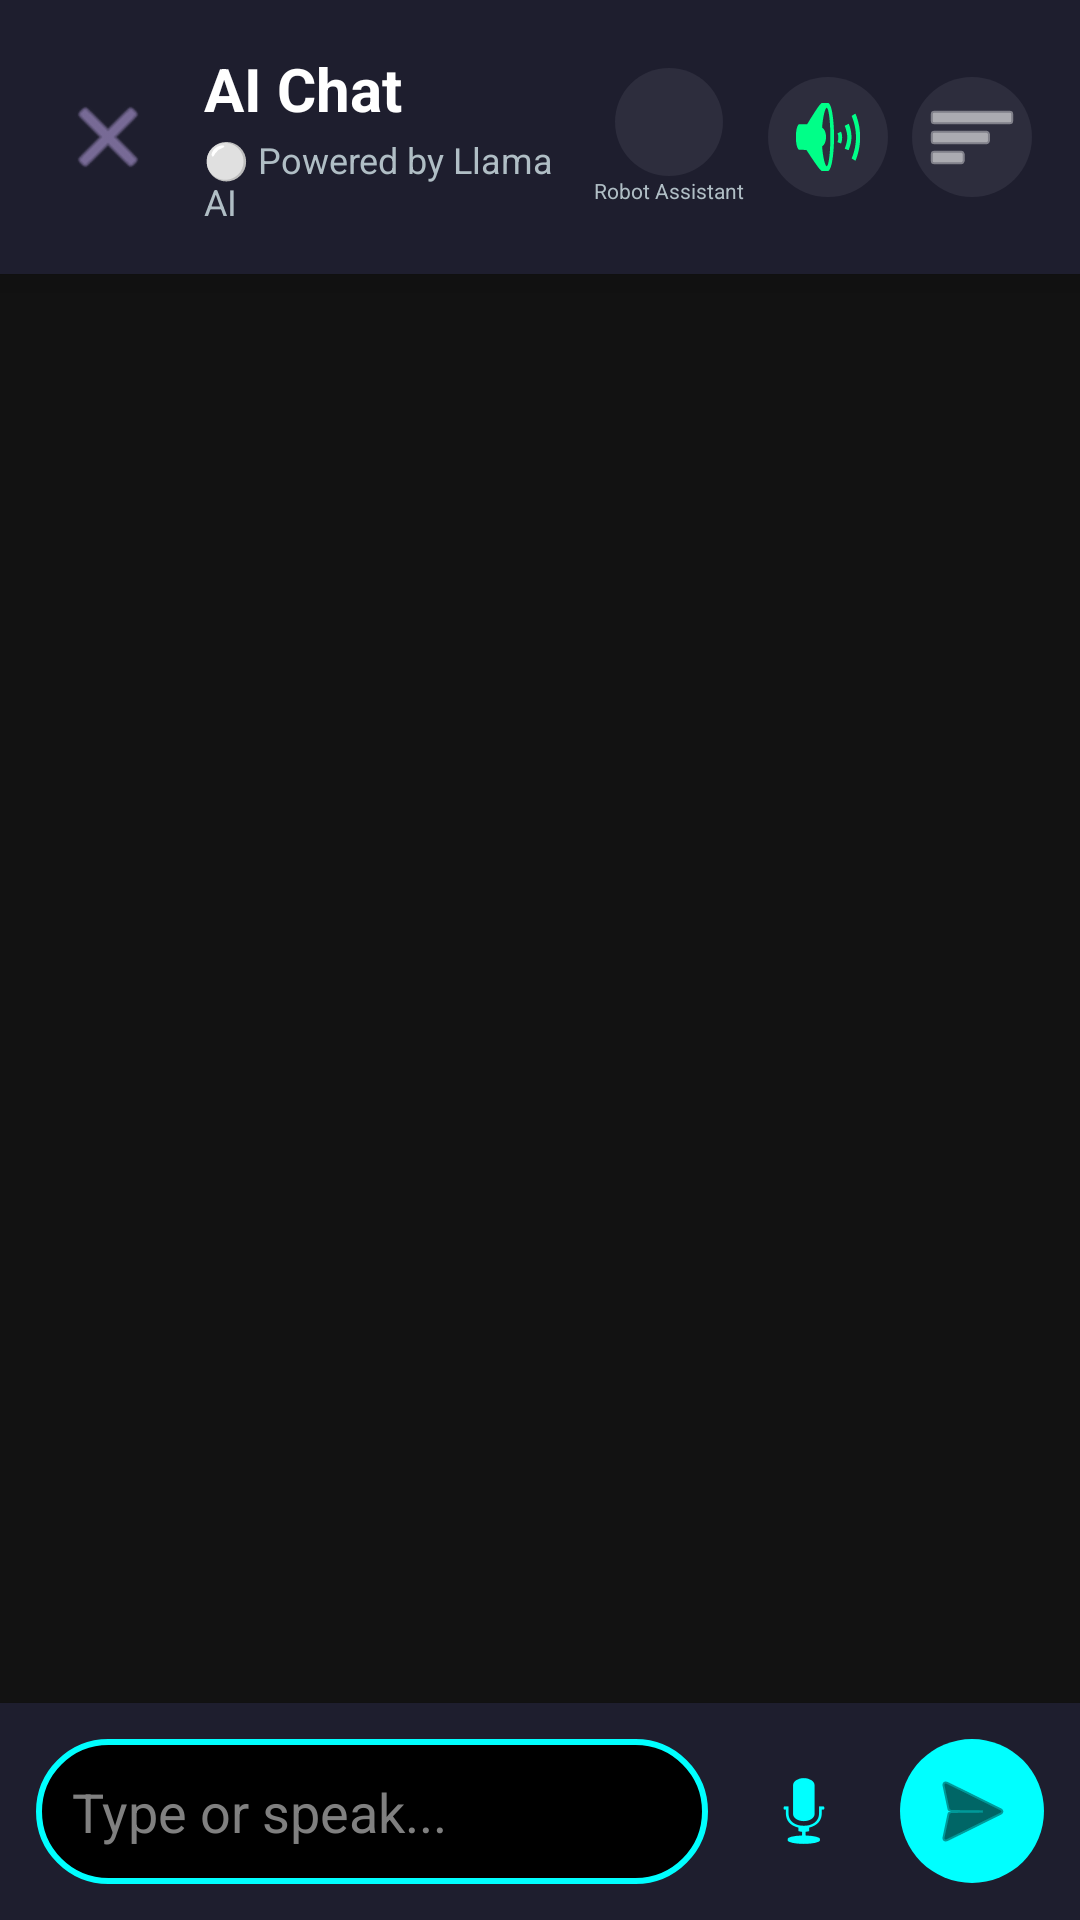

Screen size 1080w x 1920h. Icon name, then its box in pixels as [x1,y1,x2,y2]:
Chat history: [930,110,1014,165]
Send message: [900,1739,1044,1883]
Toggle voice: [768,77,888,197]
Voice input: [783,1778,825,1844]
